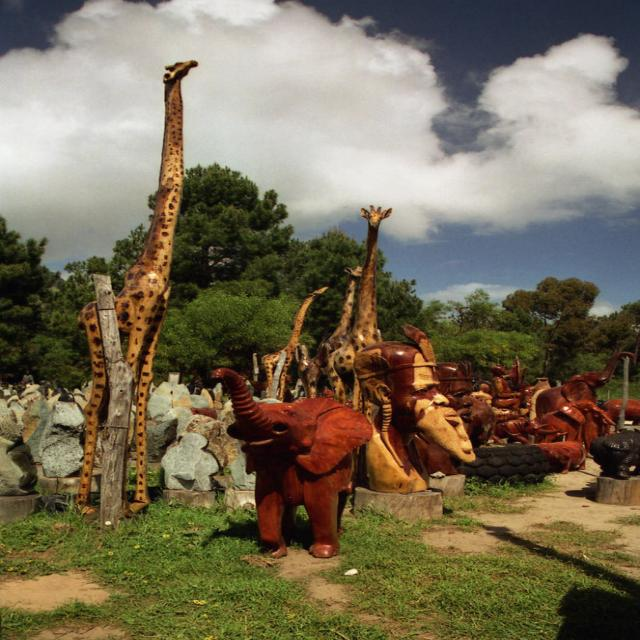elephant: (230, 388, 377, 554)
